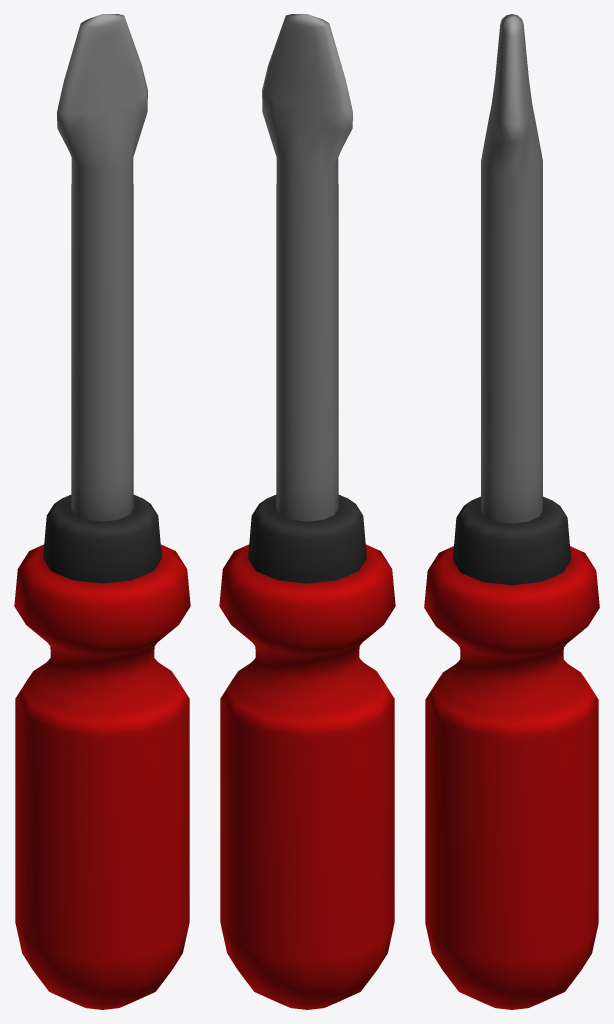
Rendered from screwdriver_red.fbx.
The picture shows the model from 3 angles, left to right: view 1: azimuth 30°, elevation 25°; view 2: azimuth 150°, elevation 25°; view 3: azimuth 270°, elevation 25°; orthographic projection.
Parts seen in each view (by area): view 1: polySurface5.008; view 2: polySurface5.008; view 3: polySurface5.008.
Part boxes in pixels (<box>): polySurface5.008: <box>14,14,190,1009</box>; polySurface5.008: <box>219,14,395,1009</box>; polySurface5.008: <box>424,14,599,1009</box>.
Bounding box in the file's own units: 0.1848 × 1.14 × 0.1848.
